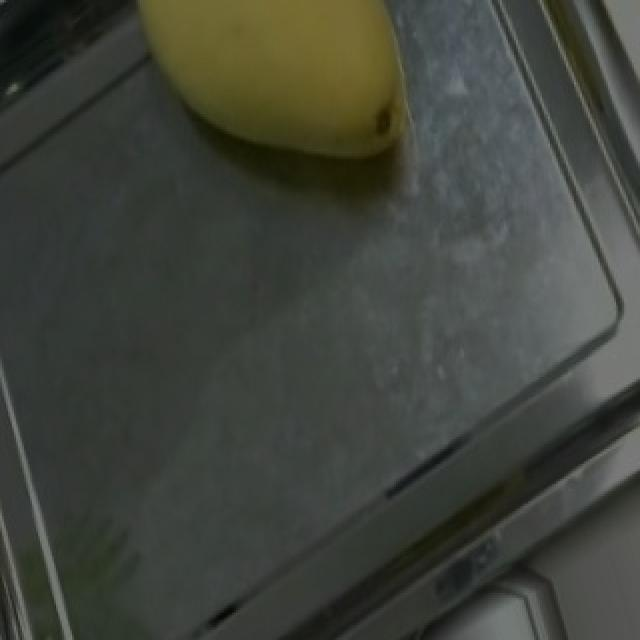fruit: (100, 0, 468, 213)
